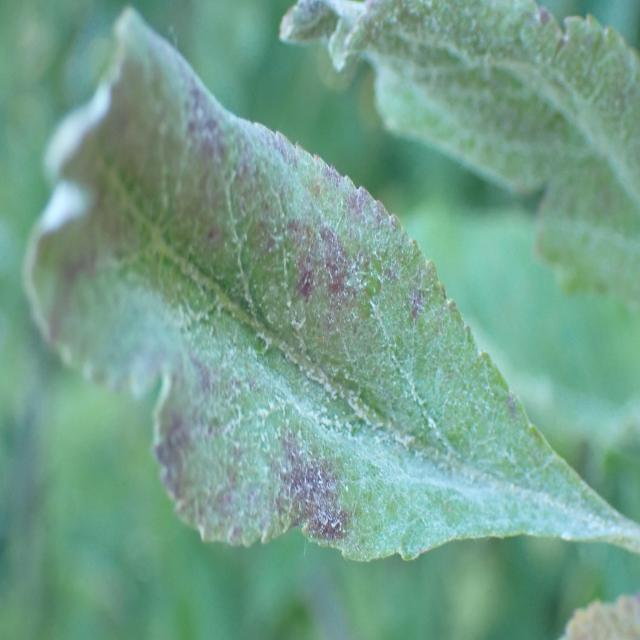Powdery_mildew: (5, 27, 582, 615), (275, 0, 640, 379)
